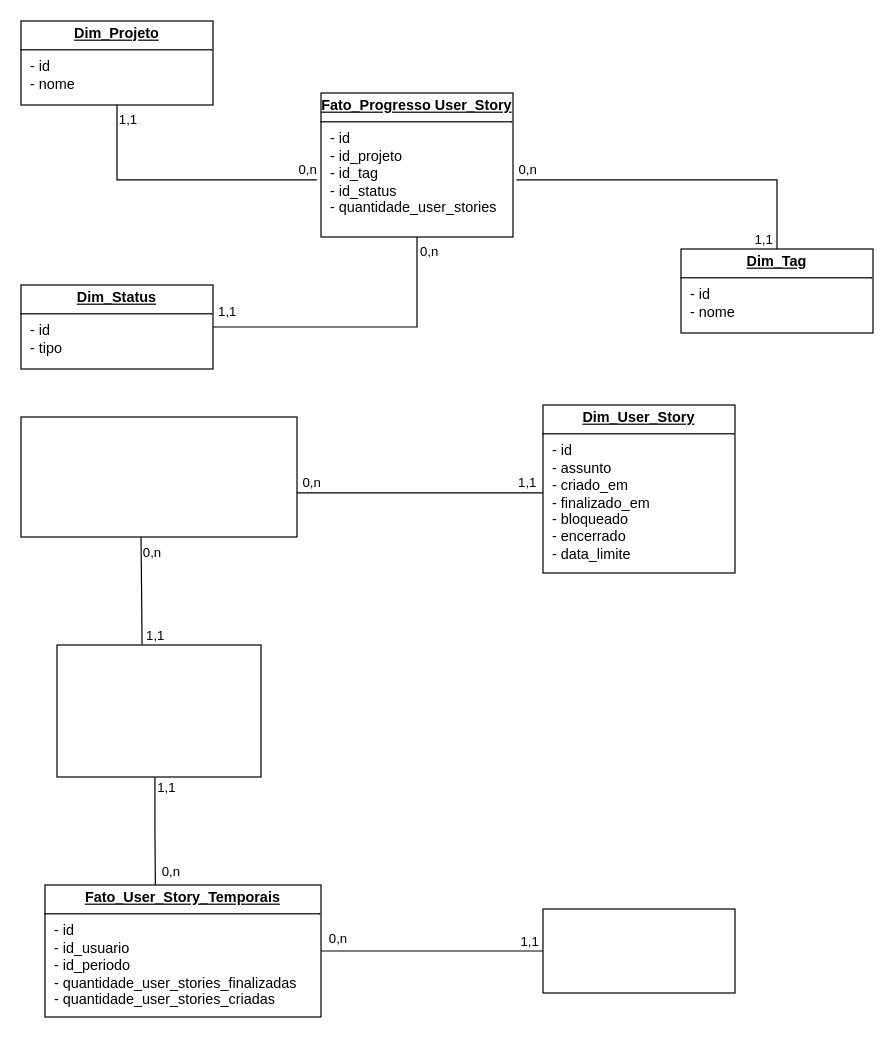
Some shapes in this 894 by 1038 pixel diagram are drawn without their labels. The centre of each missing label's shape, as x and y in pixels:
"Dim_Periodo - id - nome" belongs at (x=638, y=950).
"Dim_Usuario - id - nome - email - senha - role" belongs at (x=158, y=710).
"Fato_Eficiencia_User_Story - id - id_usuario - id_user_story - tempo_medio" belongs at (x=158, y=476).
